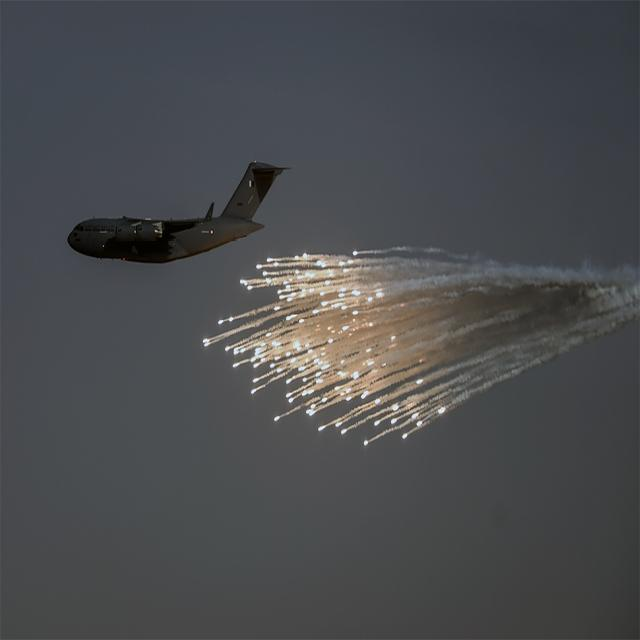MIL_Plane: (67, 159, 292, 264)
